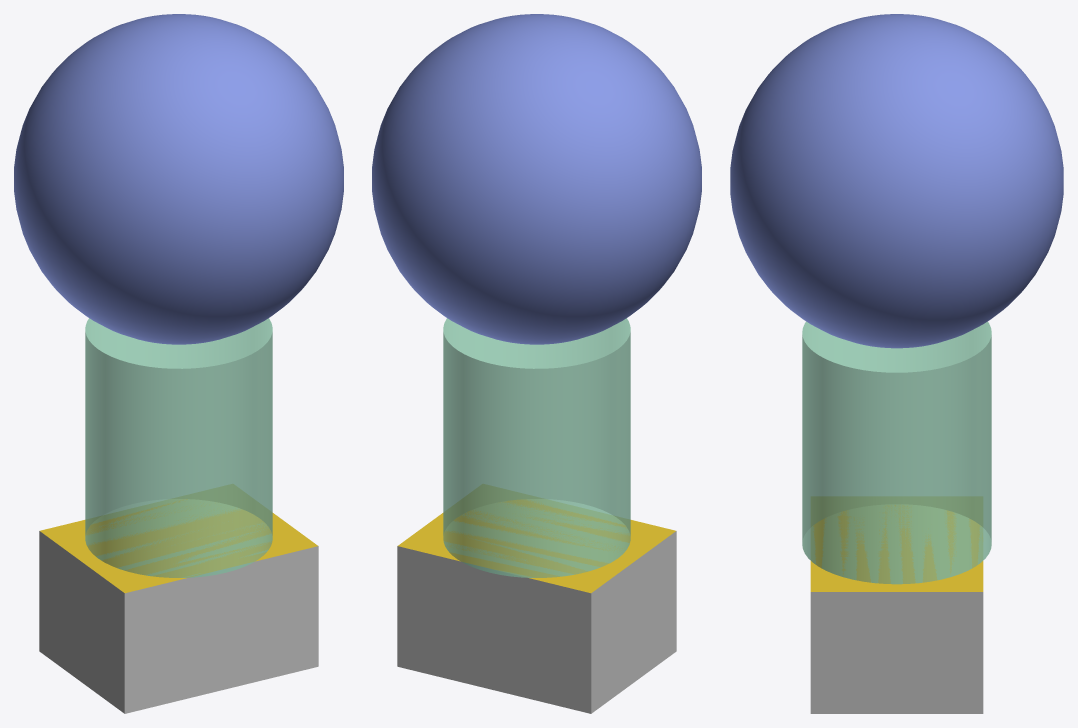
The model's file is block.glb.
The picture shows the model from 3 angles, left to right: view 1: azimuth 30°, elevation 25°; view 2: azimuth 150°, elevation 25°; view 3: azimuth 270°, elevation 25°; orthographic projection.
Visible parts, largest first — view 1: ボディ1.001, ボディ1, ボディ1.002; view 2: ボディ1.001, ボディ1, ボディ1.002; view 3: ボディ1.001, ボディ1.002, ボディ1.
Part boxes in pixels (x1,y1,x2,y2): ボディ1.001: [14, 14, 343, 344]; ボディ1: [39, 499, 318, 713]; ボディ1.002: [85, 318, 272, 577]; ボディ1.001: [372, 14, 701, 344]; ボディ1: [397, 499, 676, 713]; ボディ1.002: [443, 318, 630, 577]; ボディ1.001: [730, 14, 1063, 348]; ボディ1.002: [802, 321, 991, 584]; ボディ1: [810, 504, 983, 713].
Size of the model in its own units: 0.0731 by 0.1538 by 0.073.
